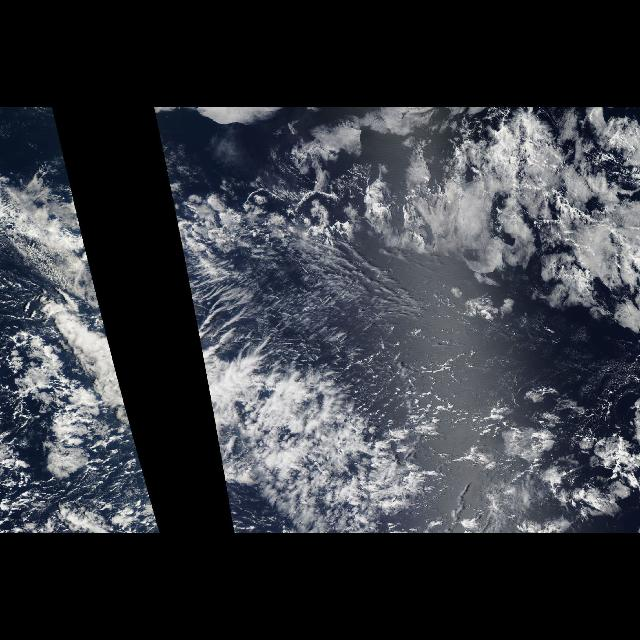Flower: (456, 382, 640, 532)
